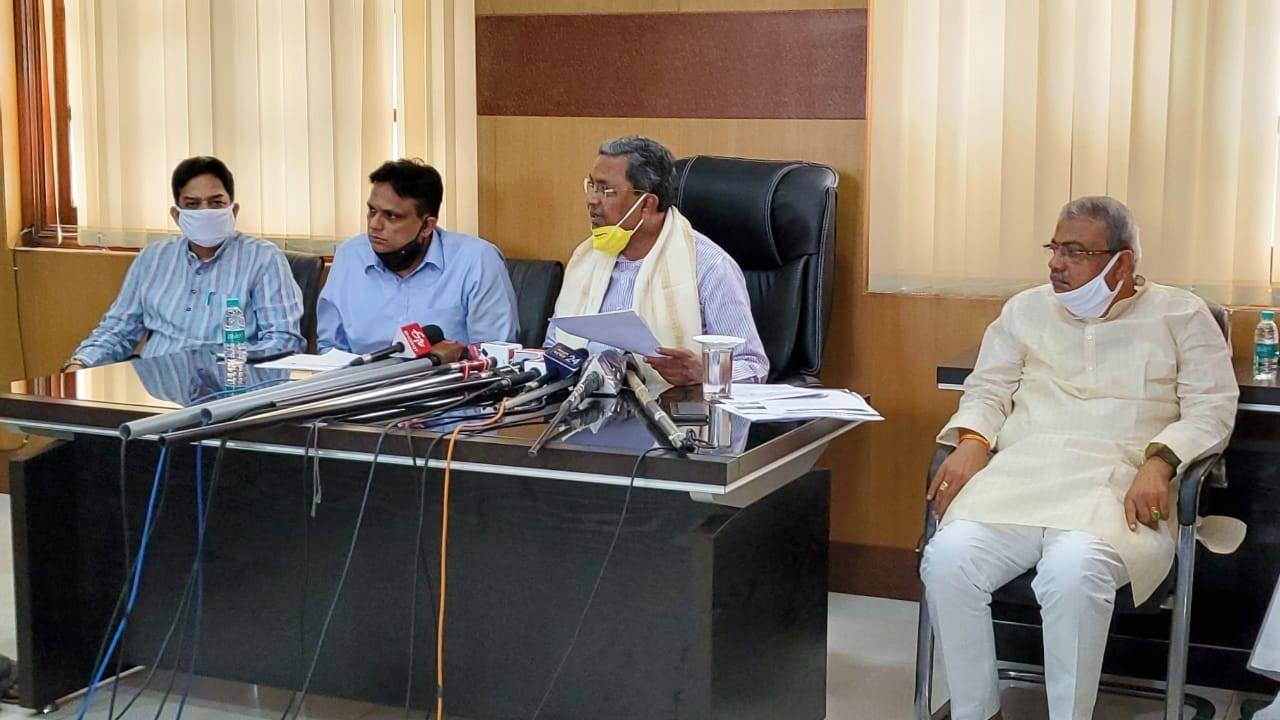mouth: (1048, 276, 1070, 288), (366, 234, 387, 243), (588, 211, 600, 222)
nose: (1047, 261, 1067, 273), (583, 196, 598, 206), (367, 223, 383, 230)
